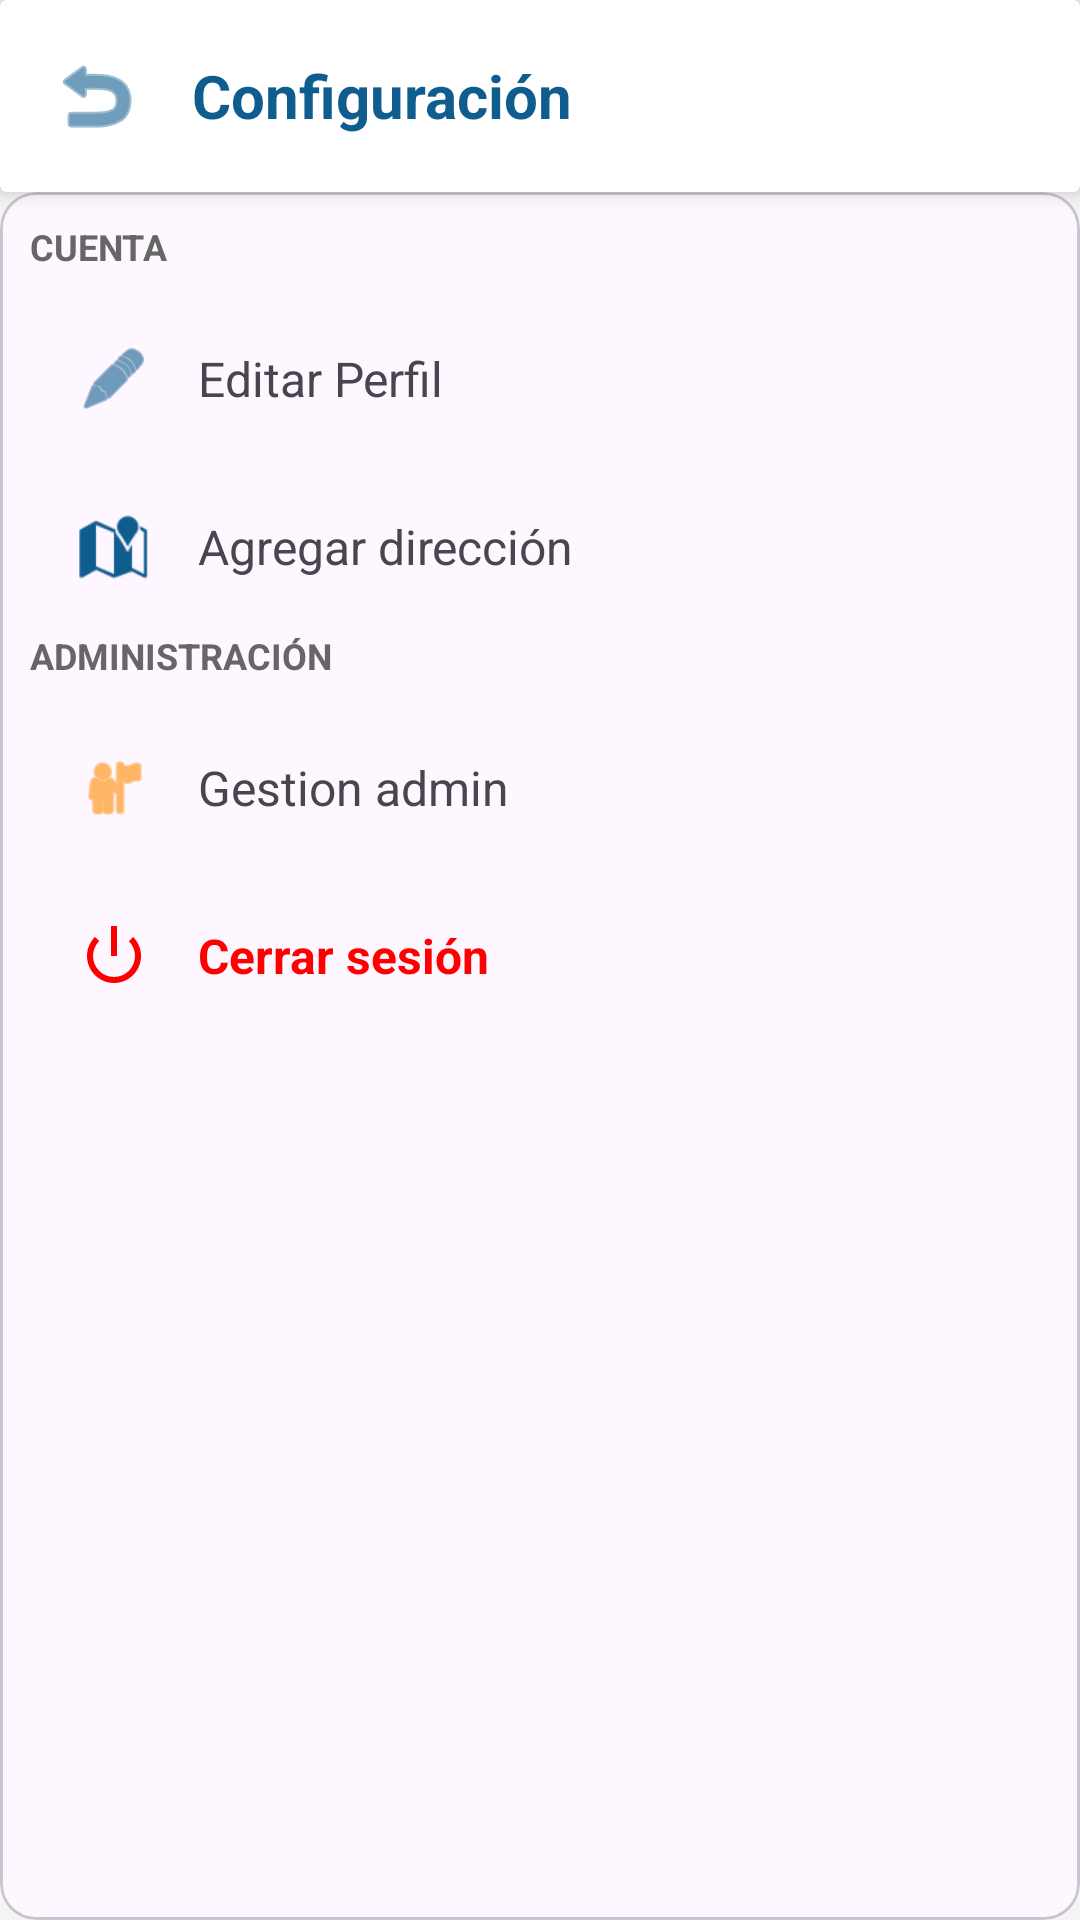

Where icons sit on this 1080px x 1920px app screen, as [x1,y1,x2,y2]:
Atrás: [63,65,132,128]
